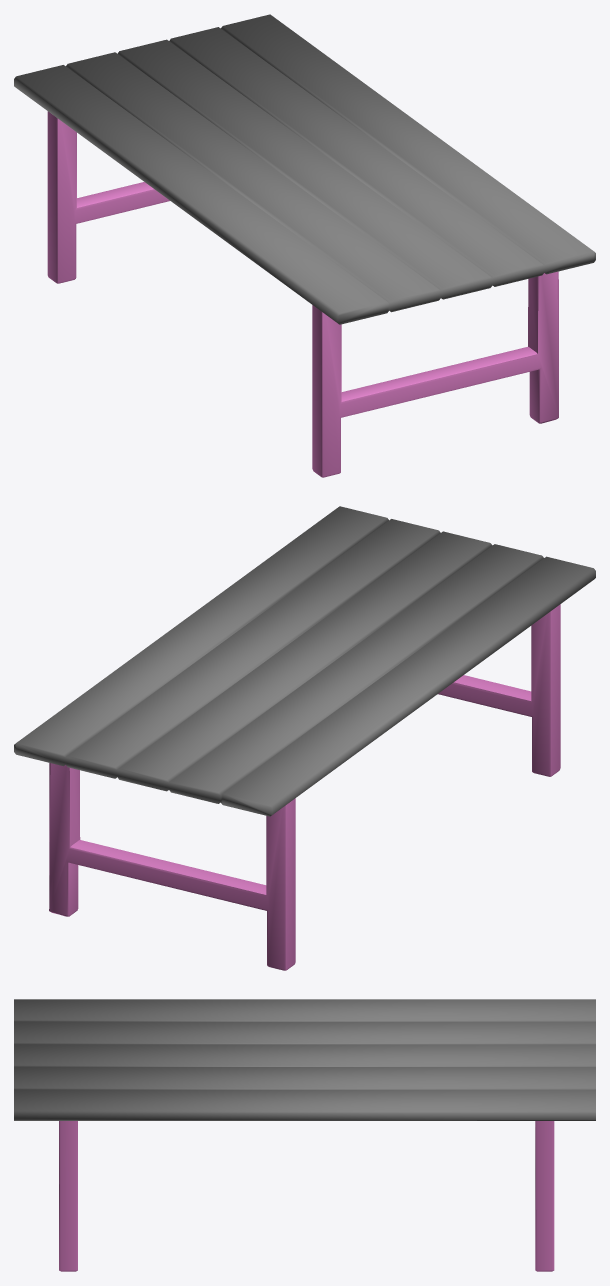
Rendered from table.fbx.
3 views of the same model, one above another, from view 1: azimuth 30°, elevation 25°; view 2: azimuth 150°, elevation 25°; view 3: azimuth 270°, elevation 25° (orthographic). The views are drawn at different scales.
Parts seen in each view (by area): view 1: Line001; view 2: Line001; view 3: Line001.
Boxes of the visible parts, bbox=[...] form: Line001: bbox=[14, 14, 595, 477]; Line001: bbox=[14, 506, 595, 970]; Line001: bbox=[14, 999, 595, 1271].
Size of the model in its own units: 126 by 86.42 by 273.
